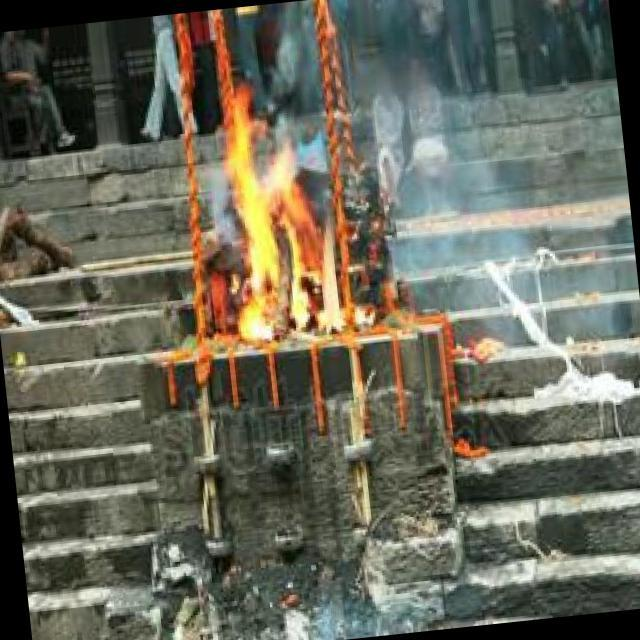Fire: (219, 82, 352, 345)
